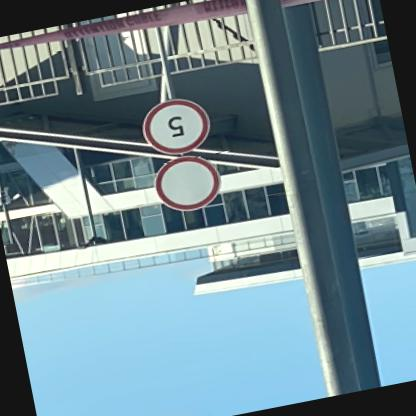speedlimit: (142, 92, 218, 160)
